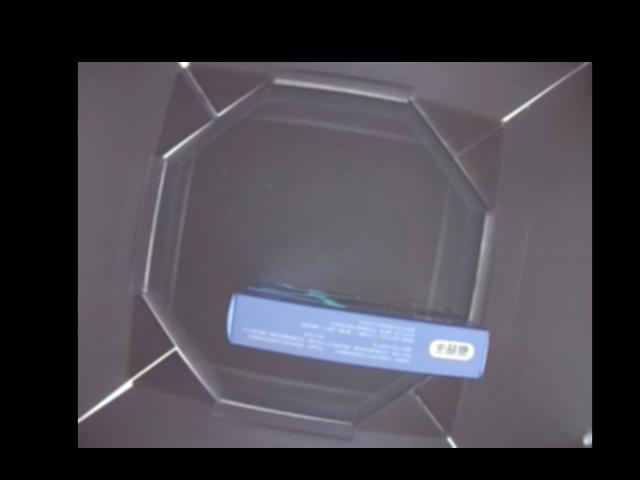Medicine: (224, 280, 487, 379)
